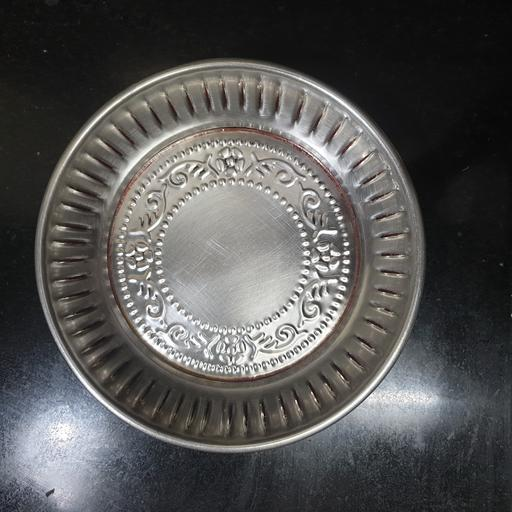plate: (37, 61, 423, 455)
